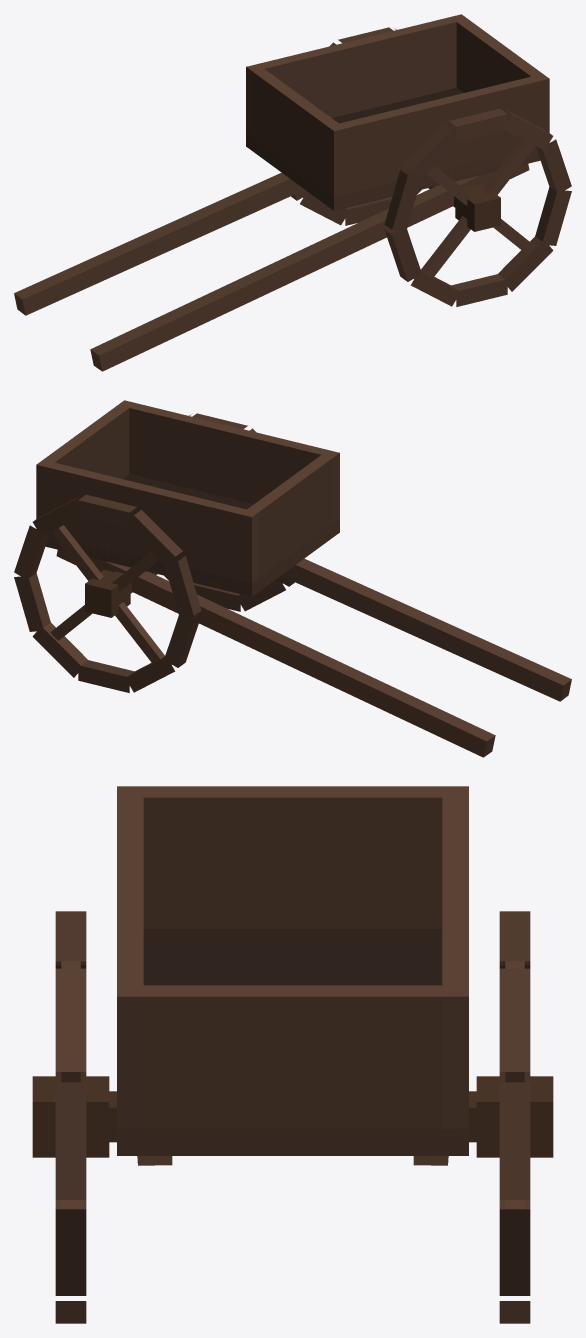
The model's file is cart.glb.
3 views of the same model, one above another, from view 1: azimuth 30°, elevation 25°; view 2: azimuth 150°, elevation 25°; view 3: azimuth 270°, elevation 25° (orthographic). The views are drawn at different scales.
Visible parts, largest first — view 1: lit; view 2: lit; view 3: lit.
Part boxes in pixels (x1,y1,x2,y2): lit: (14,14,571,371); lit: (14,400,571,757); lit: (32,786,553,1323).
Size of the model in its own units: 2.75 by 1.1 by 1.36.
